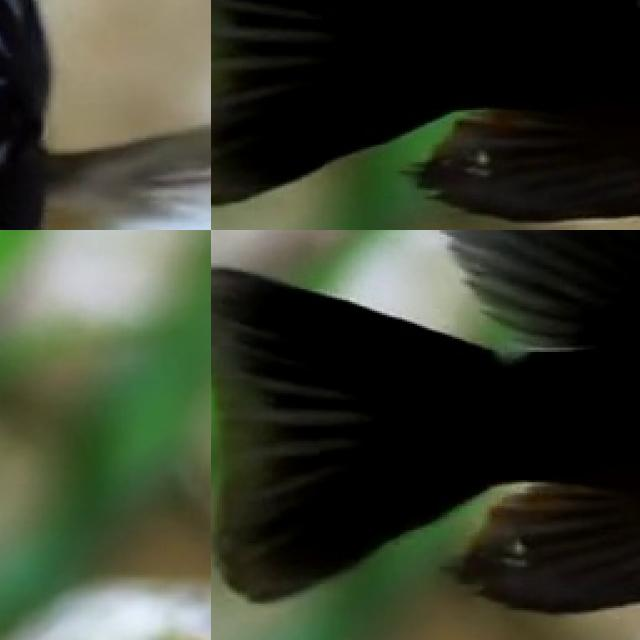fish: (211, 0, 640, 230), (0, 0, 211, 230)
